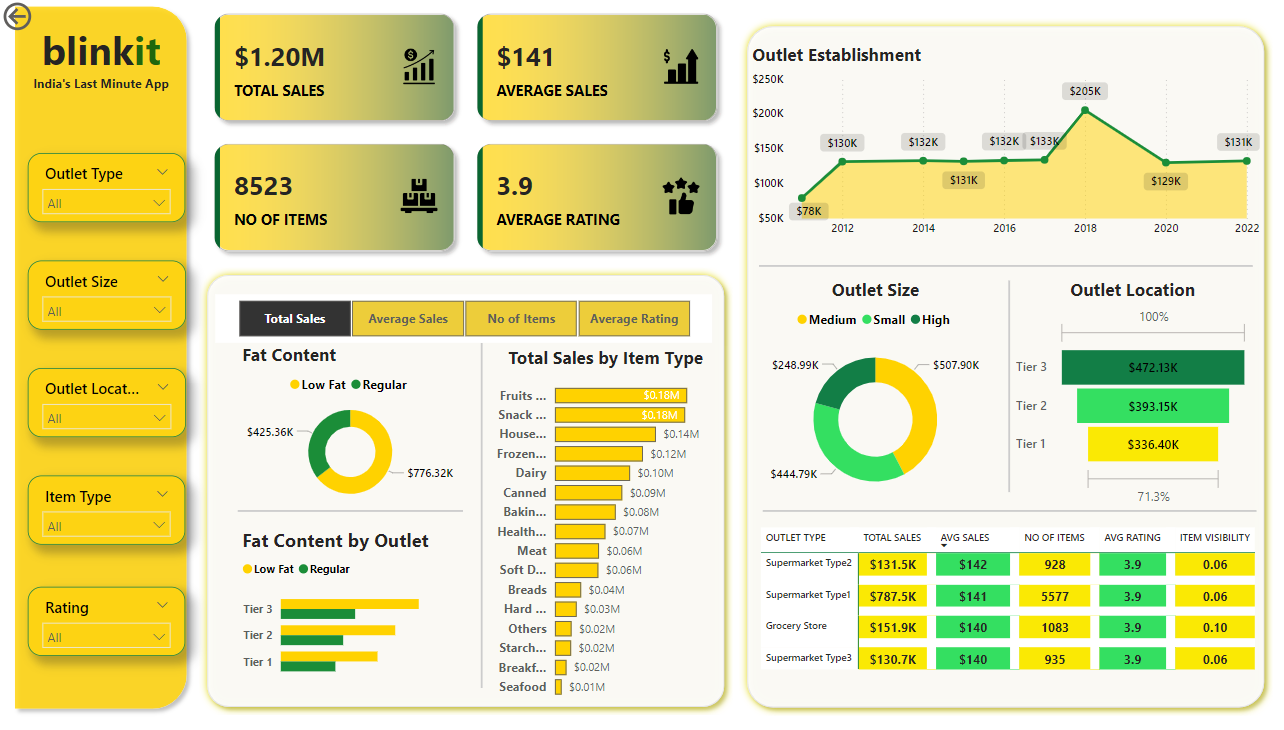

The page's visual inventory and layout, read from the dashboard file:
{"tool":"powerbi","page":{"name":"Page 1","canvas":[1400,800],"ordinal":0},"visuals":[{"type":"shape","box":[805,21.7,580,758.3],"z":0},{"type":"shape","box":[8.3,0,205,781.7],"z":1000},{"type":"textbox","box":[19.5,22.3,183.8,100.2],"z":2000},{"type":"shape","box":[217.5,292.5,580,487.5],"z":3000},{"type":"donutChart","title":"Fat Content","fields":{"Y":["Table1.Total Sales"],"Category":["Table1.Item Fat Content"]},"box":[260,375,245,182.5],"z":4000},{"type":"slicer","fields":{"Values":["Metrics.Metrics"]},"box":[235,322.5,540,52.5],"z":5000},{"type":"clusteredBarChart","title":"Fat Content by Outlet ","fields":{"Y":["Table1.Total Sales"],"Series":["Table1.Item Fat Content"],"Category":["Table1.Outlet Location Type"]},"box":[260,575,247.5,175],"z":6000},{"type":"shape","box":[260,422.5,245,270],"z":7000},{"type":"shape","box":[402.5,375,245,375],"z":8000},{"type":"barChart","title":"Total Sales by Item Type ","fields":{"Category":["Table1.Item Type"],"Y":["Table1.Total Sales"]},"box":[525,378.3,270,393.3],"z":9000},{"type":"lineChart","title":"Outlet Establishment ","fields":{"Y":["Table1.Total Sales"],"Category":["Table1.Outlet Establishment Year"]},"box":[813.3,48.3,561.7,220],"z":10000},{"type":"shape","box":[975,306.7,245,230],"z":11000},{"type":"shape","box":[826.7,181.7,536.7,218.3],"z":12000},{"type":"cardVisual","fields":{"Data":["Table1.Total Sales","Table1.Average Sales","Table1.No of Items","Table1.Average Rating"]},"box":[218,0,580,293],"z":13000},{"type":"donutChart","title":"Outlet Size","fields":{"Category":["Table1.Outlet Size"],"Y":["Table1.Total Sales"]},"box":[826.7,305,253.3,253.3],"z":14000},{"type":"funnel","title":"Outlet Location","fields":{"Category":["Table1.Outlet Location Type"],"Y":["Table1.Total Sales"]},"box":[1100,305,263.3,253.3],"z":15000},{"type":"shape","box":[830,448.3,536.7,218.3],"z":16000},{"type":"pivotTable","fields":{"Rows":["Table1.Outlet Type"],"Values":["Table1.Total Sales","Table1.Average Sales","Table1.No of Items","Table1.Average Rating","Avg(Table1.Item Visibility)"]},"box":[823.3,570,561.7,186.7],"z":17000},{"type":"slicer","fields":{"Values":["Table1.Item Type"]},"box":[31.7,536.7,171.7,75],"z":18000},{"type":"slicer","fields":{"Values":["Table1.Outlet Size"]},"box":[31.7,285,171.7,75],"z":19000},{"type":"slicer","fields":{"Values":["Table1.Outlet Location Type"]},"box":[31.7,401.7,171.7,75],"z":20000},{"type":"slicer","fields":{"Values":["Table1.Outlet Type"]},"box":[31.7,158.3,171.7,75],"z":21000},{"type":"slicer","fields":{"Values":["Table1.Rating"]},"box":[31.7,655,171.7,75],"z":22000},{"type":"actionButton","box":[0,0,100,40],"z":23000}]}

Visuals, with their boxes in screenshot pixels (x1, y1, x2, y2), scaled from the page's 1400x800 canvas onto the 1284x730 screenshot:
shape: Rect(738, 20, 1270, 712)
shape: Rect(8, 0, 196, 713)
textbox: Rect(18, 20, 186, 112)
shape: Rect(199, 267, 731, 712)
"Fat Content" donutChart: Rect(238, 342, 463, 509)
slicer - Metrics.Metrics: Rect(216, 294, 711, 342)
"Fat Content by Outlet " clusteredBarChart: Rect(238, 525, 465, 684)
shape: Rect(238, 386, 463, 632)
shape: Rect(369, 342, 594, 684)
"Total Sales by Item Type " barChart: Rect(482, 345, 729, 704)
"Outlet Establishment " lineChart: Rect(746, 44, 1261, 245)
shape: Rect(894, 280, 1119, 490)
shape: Rect(758, 166, 1250, 365)
cardVisual - Table1.Total Sales x Table1.Average Sales: Rect(200, 0, 732, 267)
"Outlet Size" donutChart: Rect(758, 278, 991, 509)
"Outlet Location" funnel: Rect(1009, 278, 1250, 509)
shape: Rect(761, 409, 1253, 608)
pivotTable - Table1.Outlet Type x Table1.Total Sales: Rect(755, 520, 1270, 690)
slicer - Table1.Item Type: Rect(29, 490, 187, 558)
slicer - Table1.Outlet Size: Rect(29, 260, 187, 328)
slicer - Table1.Outlet Location Type: Rect(29, 367, 187, 435)
slicer - Table1.Outlet Type: Rect(29, 144, 187, 213)
slicer - Table1.Rating: Rect(29, 598, 187, 666)
actionButton: Rect(0, 0, 92, 36)
